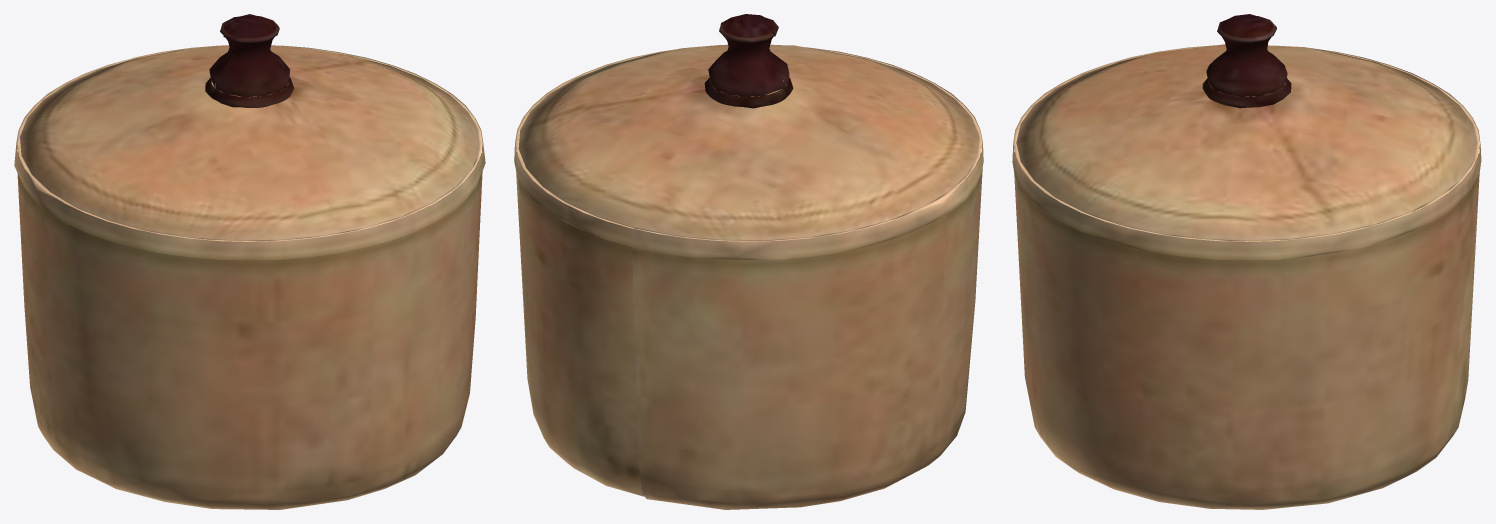
File: pot_brass.glb
3 views of the same model, side by side, from view 1: azimuth 30°, elevation 25°; view 2: azimuth 150°, elevation 25°; view 3: azimuth 270°, elevation 25° (orthographic).
Parts seen in each view (by area): view 1: brass_pot_01; view 2: brass_pot_01; view 3: brass_pot_01.
Boxes of the visible parts, box(x1,y1,x2,y2) form: brass_pot_01: box(14, 14, 485, 509); brass_pot_01: box(514, 14, 983, 509); brass_pot_01: box(1012, 14, 1481, 509).
Size of the model in its own units: 0.3005 by 0.291 by 0.3001.
1 material, 1 textured.
